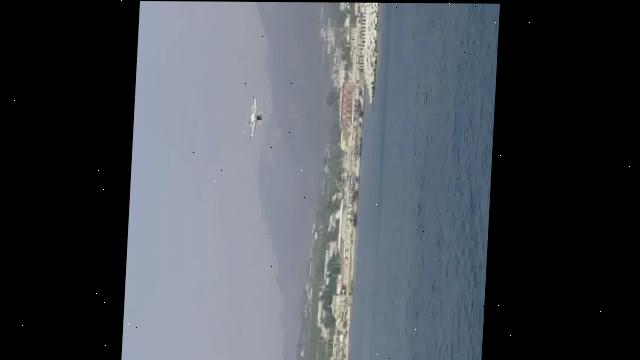drone: (241, 89, 276, 140)
